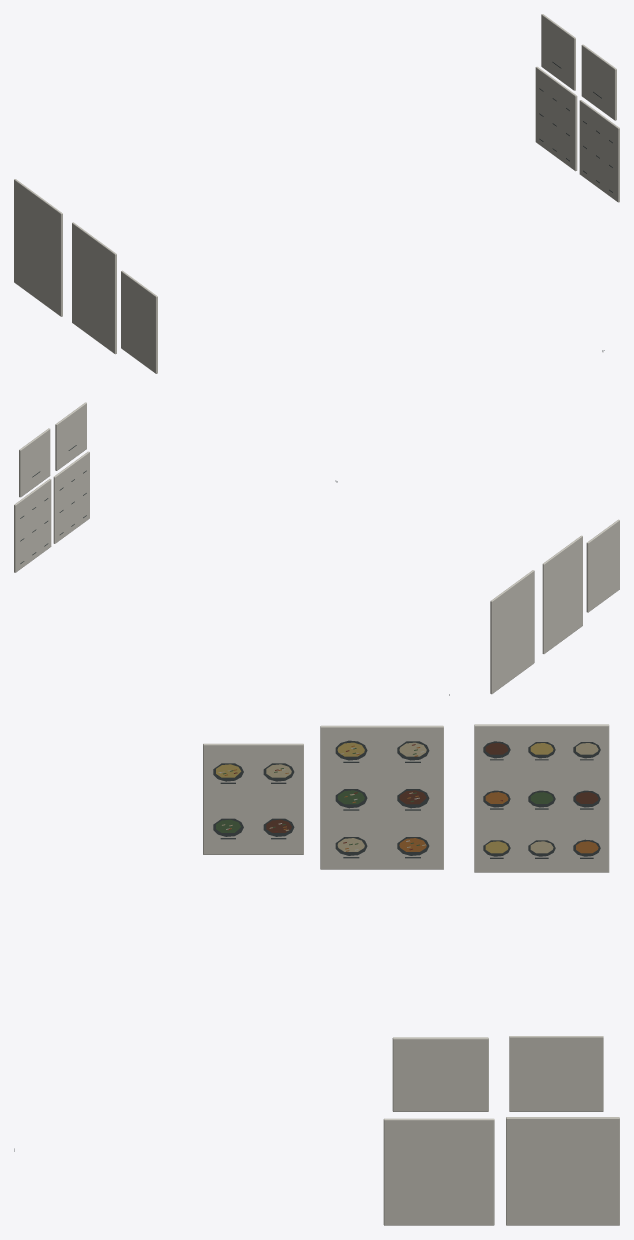
The model's file is menu.glb.
3 renders of one model, top to bottom at view 1: azimuth 30°, elevation 25°; view 2: azimuth 150°, elevation 25°; view 3: azimuth 270°, elevation 25°, orthographic. The views are drawn at different scales.
Visible parts, largest first — view 1: G010_menu; view 2: G010_menu; view 3: G010_menu.
Part boxes in pixels (left/top/right/bottom): G010_menu: left=14, top=14, right=619, bottom=373; G010_menu: left=14, top=402, right=619, bottom=695; G010_menu: left=14, top=724, right=619, bottom=1225.
Size of the model in its own units: 5.34 by 1.47 by 3.72.
